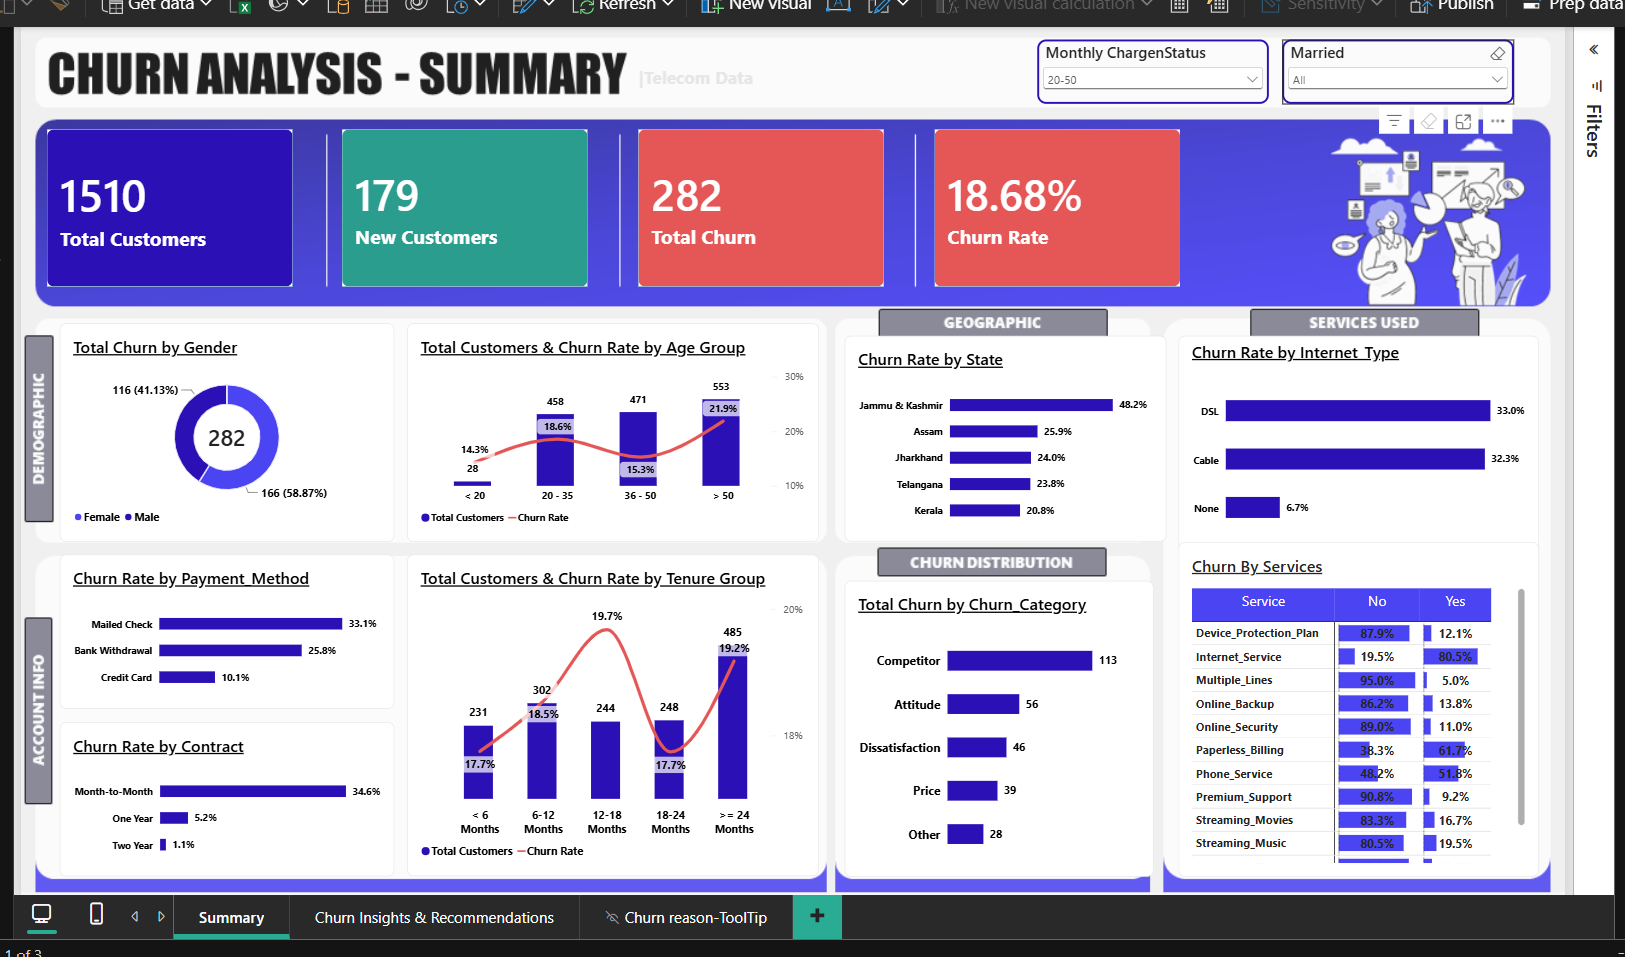

What the dashboard file says about the page in this screenshot:
{"tool":"powerbi","page":{"name":"Summary","canvas":[1920,1080],"ordinal":0},"visuals":[{"type":"cardVisual","fields":{"Data":["Table_Measures.Total Customers"]},"box":[32,128,305,195],"z":0},{"type":"cardVisual","fields":{"Data":["Table_Measures.New Customers"]},"box":[400,128,305,195],"z":1000},{"type":"cardVisual","fields":{"Data":["Table_Measures.Total Churn"]},"box":[768,128,305,195],"z":2000},{"type":"cardVisual","fields":{"Data":["Table_Measures.Churn Rate"]},"box":[1136,128,305,195],"z":3000},{"type":"donutChart","fields":{"Category":["Customer_ChurnData.Gender"],"Y":["Table_Measures.Total Churn"]},"box":[48,368,416,272],"z":4000},{"type":"clusteredBarChart","fields":{"Category":["Customer_ChurnData.Payment_Method"],"Y":["Table_Measures.Churn Rate"]},"box":[48,656,416,192],"z":5000},{"type":"clusteredBarChart","fields":{"Category":["Customer_ChurnData.Contract"],"Y":["Table_Measures.Churn Rate"]},"box":[48,864,416,192],"z":6000},{"type":"lineStackedColumnComboChart","title":"Total Customers & Churn Rate by Tenure Group","fields":{"Category":["TenureGroupMapping.Tenure Group"],"Y":["Table_Measures.Total Customers"],"Y2":["Table_Measures.Churn Rate"]},"box":[480,656,512,400],"z":7000},{"type":"lineStackedColumnComboChart","title":"Total Customers & Churn Rate by Age Group","fields":{"Category":["AgeGroupMapping.Age Group"],"Y":["Table_Measures.Total Customers"],"Y2":["Table_Measures.Churn Rate"]},"box":[480,368,512,272],"z":8000},{"type":"clusteredBarChart","fields":{"Category":["Customer_ChurnData.State"],"Y":["Table_Measures.Churn Rate"]},"box":[1024,384,400,256],"z":9000},{"type":"clusteredBarChart","fields":{"Category":["Customer_ChurnData.Churn_Category"],"Y":["Table_Measures.Total Churn"]},"box":[1024,688,384,368],"z":10000},{"type":"clusteredBarChart","fields":{"Category":["Customer_ChurnData.Internet_Type"],"Y":["Table_Measures.Churn Rate"]},"box":[1440,384,448,272],"z":11000},{"type":"pivotTable","title":"Churn By Services","fields":{"Columns":["Customer_Service_Status.Status"],"Rows":["Customer_Service_Status.Service"],"Values":["Sum(Customer_Service_Status.ChurnStatus)"]},"box":[1440,640,448,416],"z":12000},{"type":"slicer","fields":{"Values":["Customer_ChurnData.Monthly_Charge_Status"]},"box":[1264,16,288,80],"z":13000},{"type":"slicer","fields":{"Values":["Customer_ChurnData.Married"]},"box":[1568,16,288,80],"z":14000},{"type":"textbox","box":[768,48,256,64],"z":15000}]}

Visuals, with their boxes on the page's 1920x1080 design canvas (x1, y1, x2, y2). These are canvas units, not pixel positions in the 1625x957 screenshot, which may show the page scaled, cropped or inside an application window:
cardVisual - Table_Measures.Total Customers: detection(32, 128, 337, 323)
cardVisual - Table_Measures.New Customers: detection(400, 128, 705, 323)
cardVisual - Table_Measures.Total Churn: detection(768, 128, 1073, 323)
cardVisual - Table_Measures.Churn Rate: detection(1136, 128, 1441, 323)
donutChart - Customer_ChurnData.Gender x Table_Measures.Total Churn: detection(48, 368, 464, 640)
clusteredBarChart - Customer_ChurnData.Payment_Method x Table_Measures.Churn Rate: detection(48, 656, 464, 848)
clusteredBarChart - Customer_ChurnData.Contract x Table_Measures.Churn Rate: detection(48, 864, 464, 1056)
"Total Customers & Churn Rate by Tenure Group" lineStackedColumnComboChart: detection(480, 656, 992, 1056)
"Total Customers & Churn Rate by Age Group" lineStackedColumnComboChart: detection(480, 368, 992, 640)
clusteredBarChart - Customer_ChurnData.State x Table_Measures.Churn Rate: detection(1024, 384, 1424, 640)
clusteredBarChart - Customer_ChurnData.Churn_Category x Table_Measures.Total Churn: detection(1024, 688, 1408, 1056)
clusteredBarChart - Customer_ChurnData.Internet_Type x Table_Measures.Churn Rate: detection(1440, 384, 1888, 656)
"Churn By Services" pivotTable: detection(1440, 640, 1888, 1056)
slicer - Customer_ChurnData.Monthly_Charge_Status: detection(1264, 16, 1552, 96)
slicer - Customer_ChurnData.Married: detection(1568, 16, 1856, 96)
textbox: detection(768, 48, 1024, 112)
